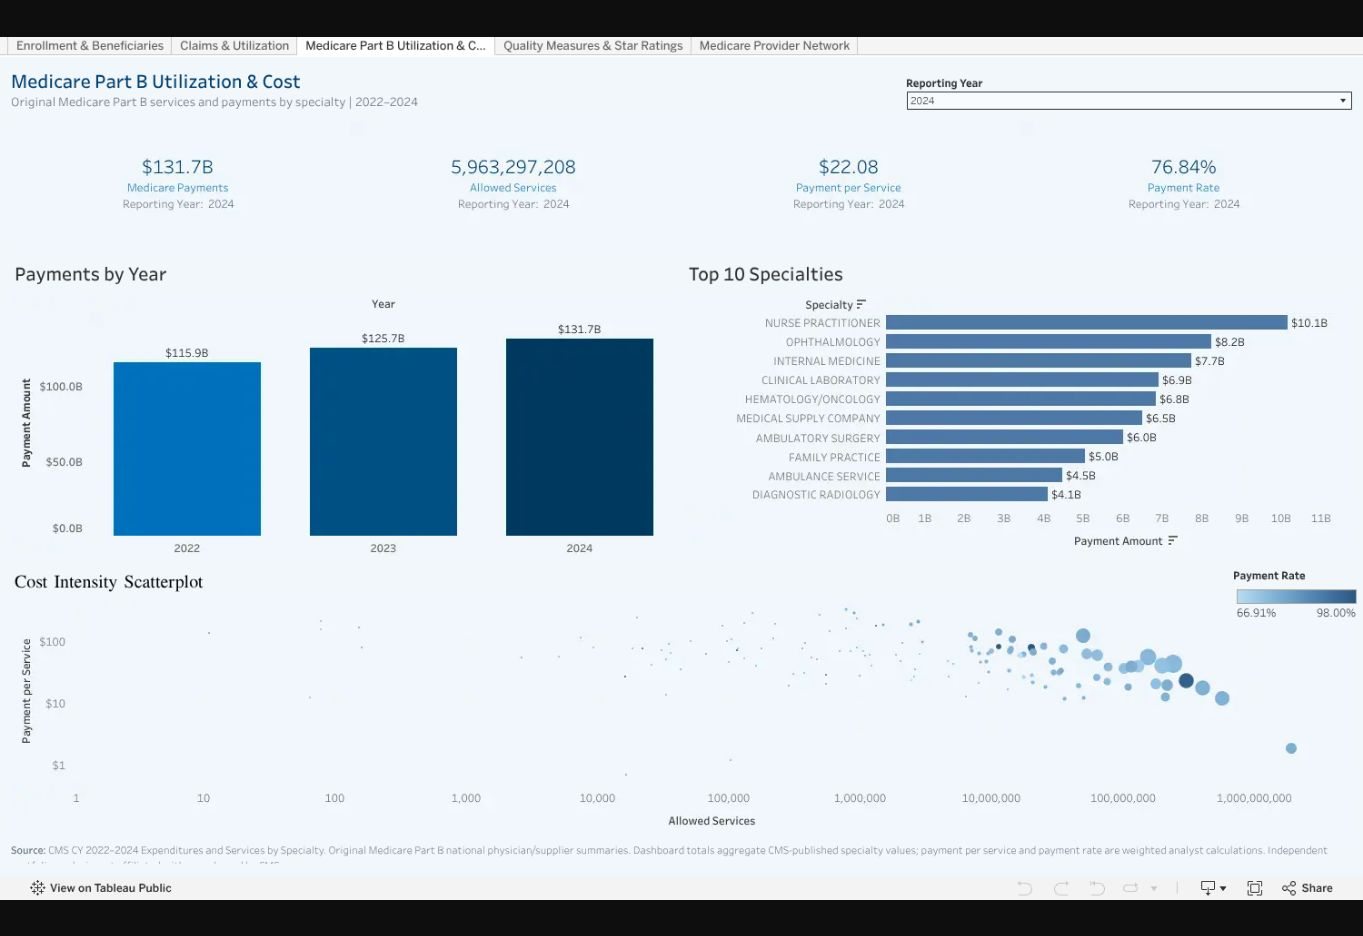

Layout of this report page (visuals, bound fields, positions):
{"tool":"tableau","page":{"name":"Part B Utilization","canvas":[1200,900],"ordinal":0},"visuals":[{"type":"text","box":[12,12,1176,133]},{"type":"filter","title":"Medicare Payments","param":"[federated.0knh7l01lqvi6t11982bs0cr6fzv].[none:Year:ok]","box":[730,53,168,64]},{"type":"filter","title":"Medicare Payments","param":"[federated.0knh7l01lqvi6t11982bs0cr6fzv].[none:Specialty:nk]","box":[950,58,168,43]},{"type":"worksheet","title":"Payment per Service","mark":"Automatic","box":[596,140,314,88]},{"type":"worksheet","title":"Medicare Payments","mark":"Automatic","box":[8,141,293,76]},{"type":"worksheet","title":"Allowed Services","mark":"Automatic","box":[301,141,275,76]},{"type":"worksheet","title":"Payment Rate","mark":"Text","box":[12,145,1176,94]},{"type":"worksheet","title":"Top 10 Specialties","mark":"Automatic","rows":["Specialty"],"cols":["Payment Amount"],"box":[594,247,598,319]},{"type":"worksheet","title":"Payments by Year","mark":"Bar","rows":["Payment Amount"],"cols":["Year"],"box":[6,254,550,287]},{"type":"worksheet","title":"Cost Intensity Scatterplot","mark":"Circle","rows":["Calculation_0861224653221889"],"cols":["Allowed Services"],"box":[1,553,905,329]},{"type":"legend","title":"Cost Intensity Scatterplot","param":"[federated.0knh7l01lqvi6t11982bs0cr6fzv].[usr:Calculation_0861224653770755:qk]","box":[925,573,271,119]},{"type":"legend","title":"Cost Intensity Scatterplot","param":"[federated.0knh7l01lqvi6t11982bs0cr6fzv].[sum:Payment Amount:qk]","box":[938,691,261,152]}]}

Visuals, with their boxes on the page's 1200x900 design canvas (x1, y1, x2, y2). These are canvas units, not pixel positions in the 1363x936 screenshot, which may show the page scaled, cropped or inside an application window:
text: (left=12, top=12, right=1188, bottom=145)
"Medicare Payments" filter: (left=730, top=53, right=898, bottom=117)
"Medicare Payments" filter: (left=950, top=58, right=1118, bottom=101)
"Payment per Service" worksheet: (left=596, top=140, right=910, bottom=228)
"Medicare Payments" worksheet: (left=8, top=141, right=301, bottom=217)
"Allowed Services" worksheet: (left=301, top=141, right=576, bottom=217)
"Payment Rate" worksheet (Text marks): (left=12, top=145, right=1188, bottom=239)
"Top 10 Specialties" worksheet: (left=594, top=247, right=1192, bottom=566)
"Payments by Year" worksheet (Bar marks): (left=6, top=254, right=556, bottom=541)
"Cost Intensity Scatterplot" worksheet (Circle marks): (left=1, top=553, right=906, bottom=882)
"Cost Intensity Scatterplot" legend: (left=925, top=573, right=1196, bottom=692)
"Cost Intensity Scatterplot" legend: (left=938, top=691, right=1199, bottom=843)
